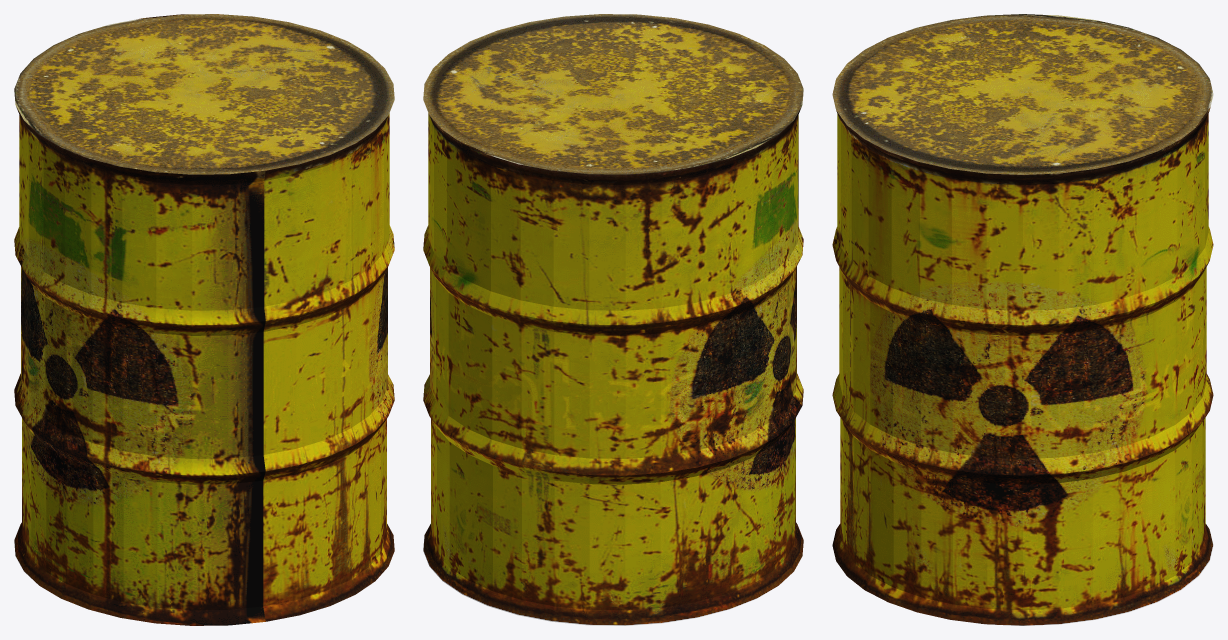
The model's file is nuke.glb.
3 views of the same model, side by side, from view 1: azimuth 30°, elevation 25°; view 2: azimuth 150°, elevation 25°; view 3: azimuth 270°, elevation 25° (orthographic).
Parts seen in each view (by area): view 1: Cylinder; view 2: Cylinder; view 3: Cylinder.
Boxes of the visible parts, x1,y1,x2,y2 form: Cylinder: (14, 14, 394, 625); Cylinder: (423, 14, 803, 625); Cylinder: (832, 14, 1213, 625).
Size of the model in its own units: 1.53 by 2 by 1.53.
Materials: 1 (1 with a texture image).
